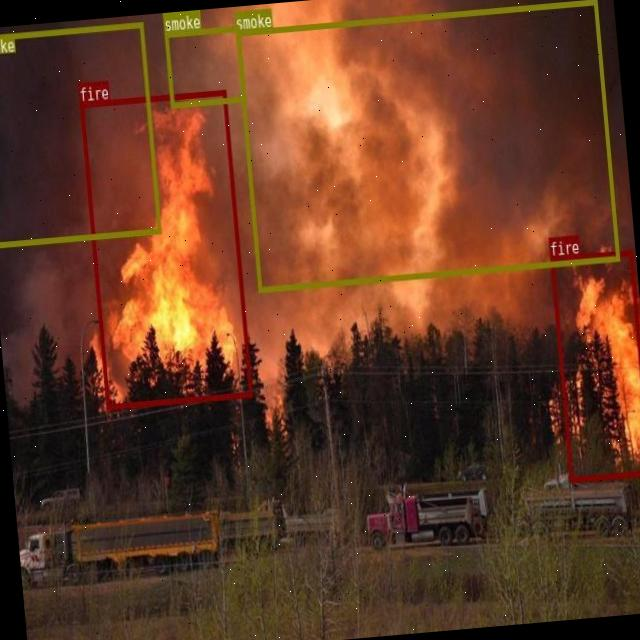fire: (79, 88, 251, 408), (549, 248, 640, 480)
smoke: (235, 0, 618, 290), (0, 21, 161, 246), (163, 25, 244, 106)
